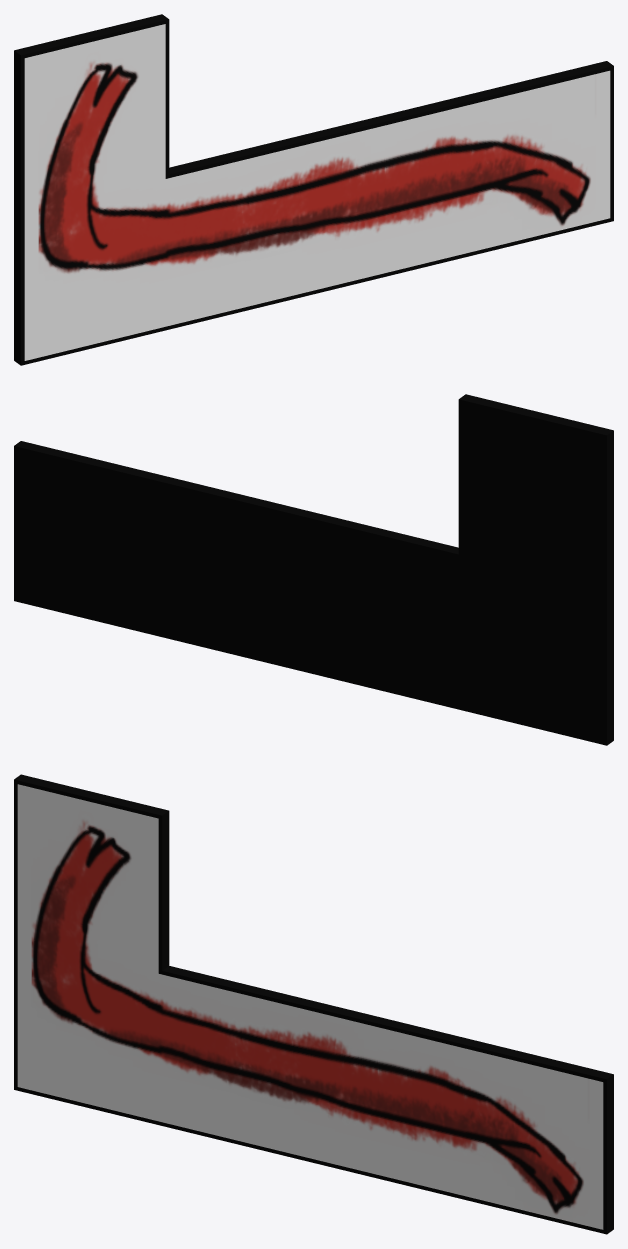
File: mdl_poland_fiat_item7.gltf
3 views of the same model, one above another, from view 1: azimuth 30°, elevation 25°; view 2: azimuth 150°, elevation 25°; view 3: azimuth 330°, elevation 25° (orthographic).
Visible parts, largest first — view 1: Plane.007; view 2: Plane.007; view 3: Plane.007.
Boxes of the visible parts, bbox=[...] form: Plane.007: bbox=[14, 14, 613, 365]; Plane.007: bbox=[14, 394, 613, 745]; Plane.007: bbox=[14, 774, 613, 1234].
Size of the model in its own units: 1.6 by 0.8 by 0.0326.
2 materials, 2 textured.
